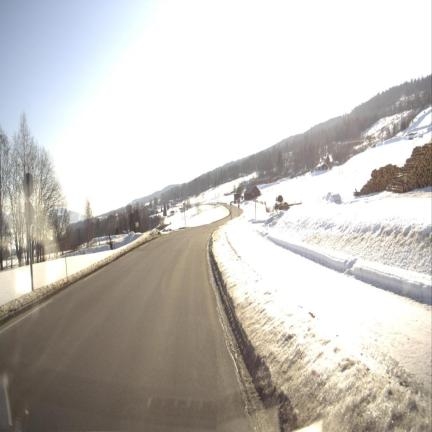Road: (0, 224, 252, 430)
